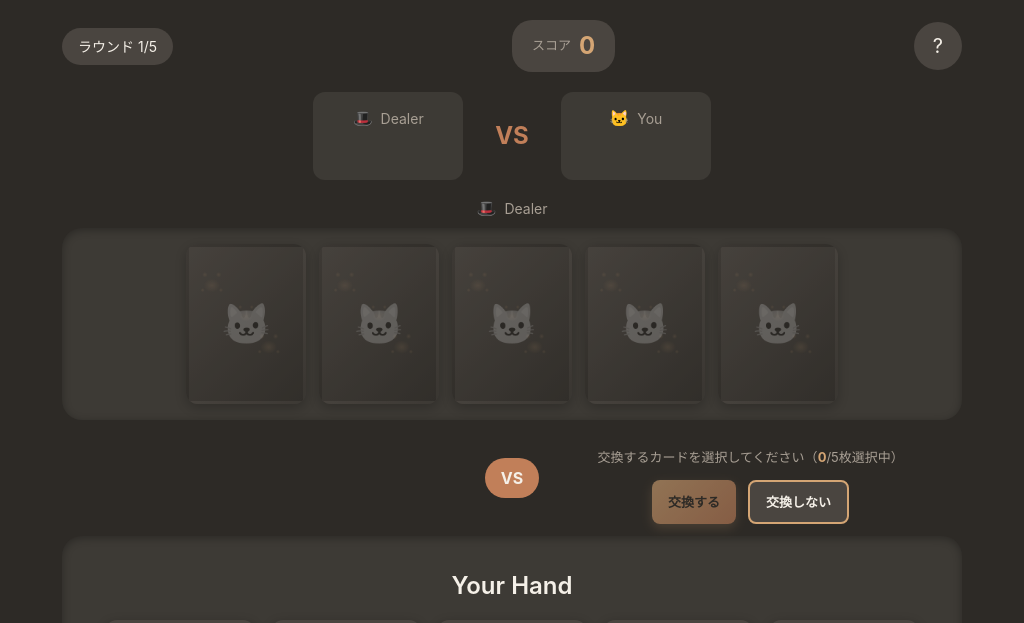
Test: BattleScreen Card Exchange › handles draw result
Step 1. Click the button "交換しない" → (799, 502), box 748,480 -> 849,524
Wait 3000 ms
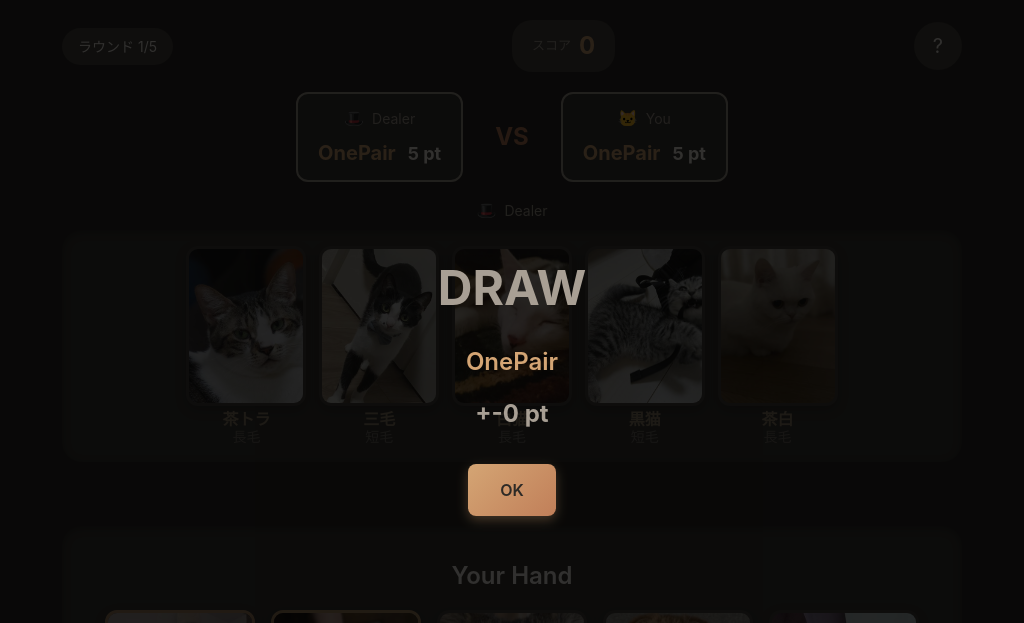
Now the heading "DRAW" is shown, box 438,252 -> 586,324
